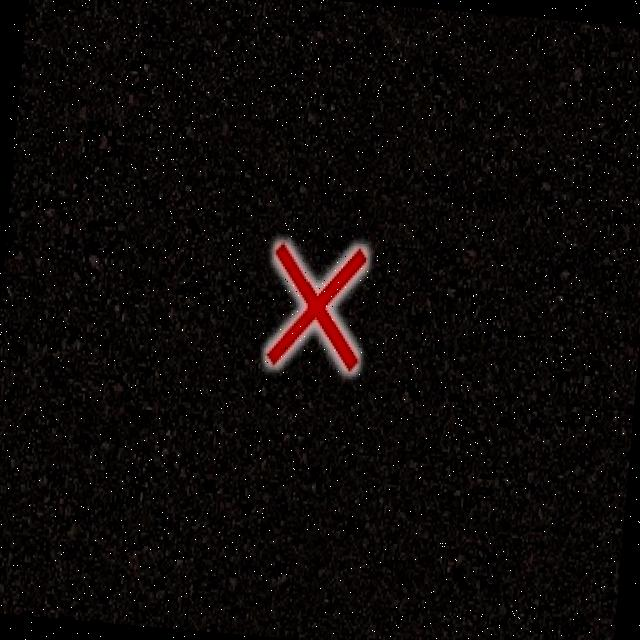x_marker: (266, 240, 366, 370)
